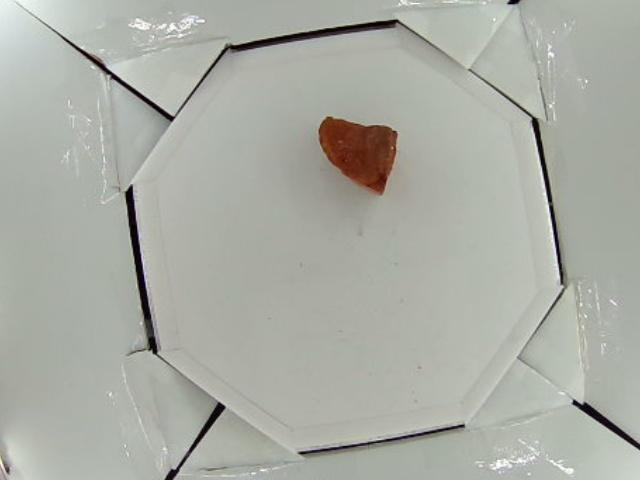Brisk: (318, 117, 399, 191)
